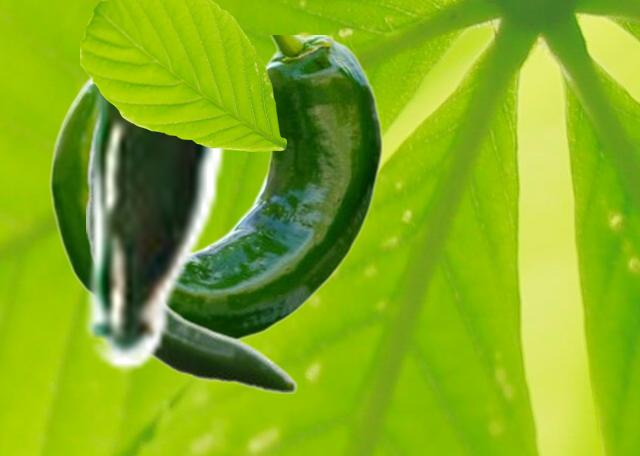green_chili: (49, 35, 383, 340), (86, 128, 297, 392), (76, 74, 238, 371)
